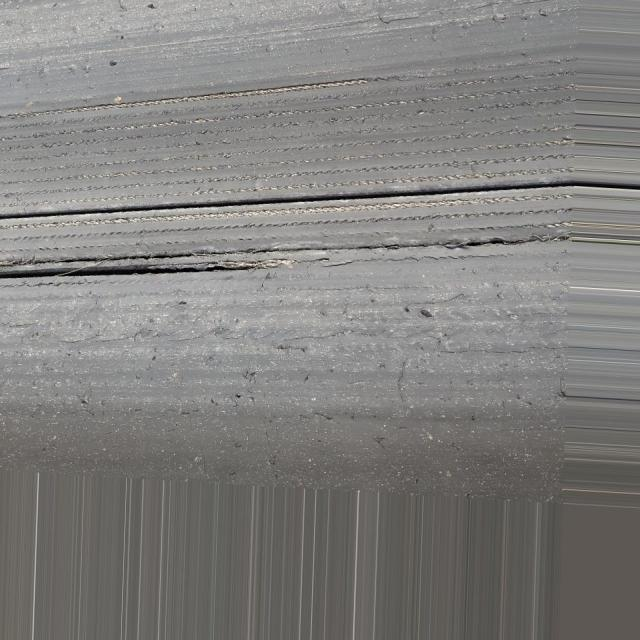Tear: (0, 228, 562, 293), (1, 166, 582, 224)
Wear: (1, 62, 554, 208)
